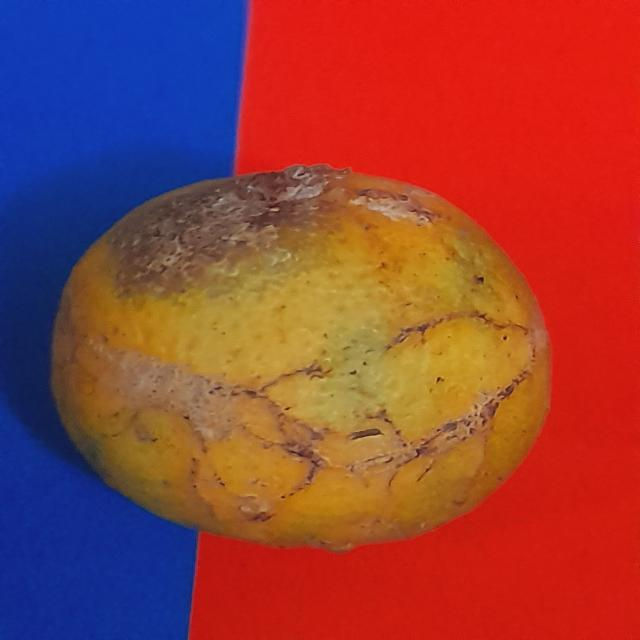thrips: (41, 169, 563, 562)
